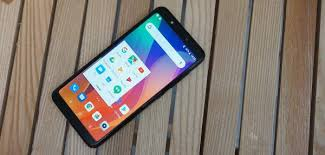vsmart: (51, 4, 204, 149)
